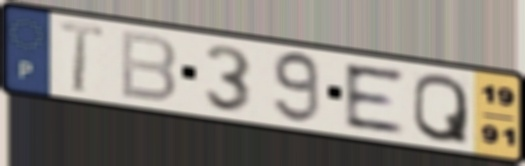3: (202, 44, 255, 115)
9: (269, 49, 325, 127)
B: (117, 27, 180, 105)
E: (340, 61, 408, 135)
Q: (410, 72, 471, 147)
T: (56, 18, 108, 96)
